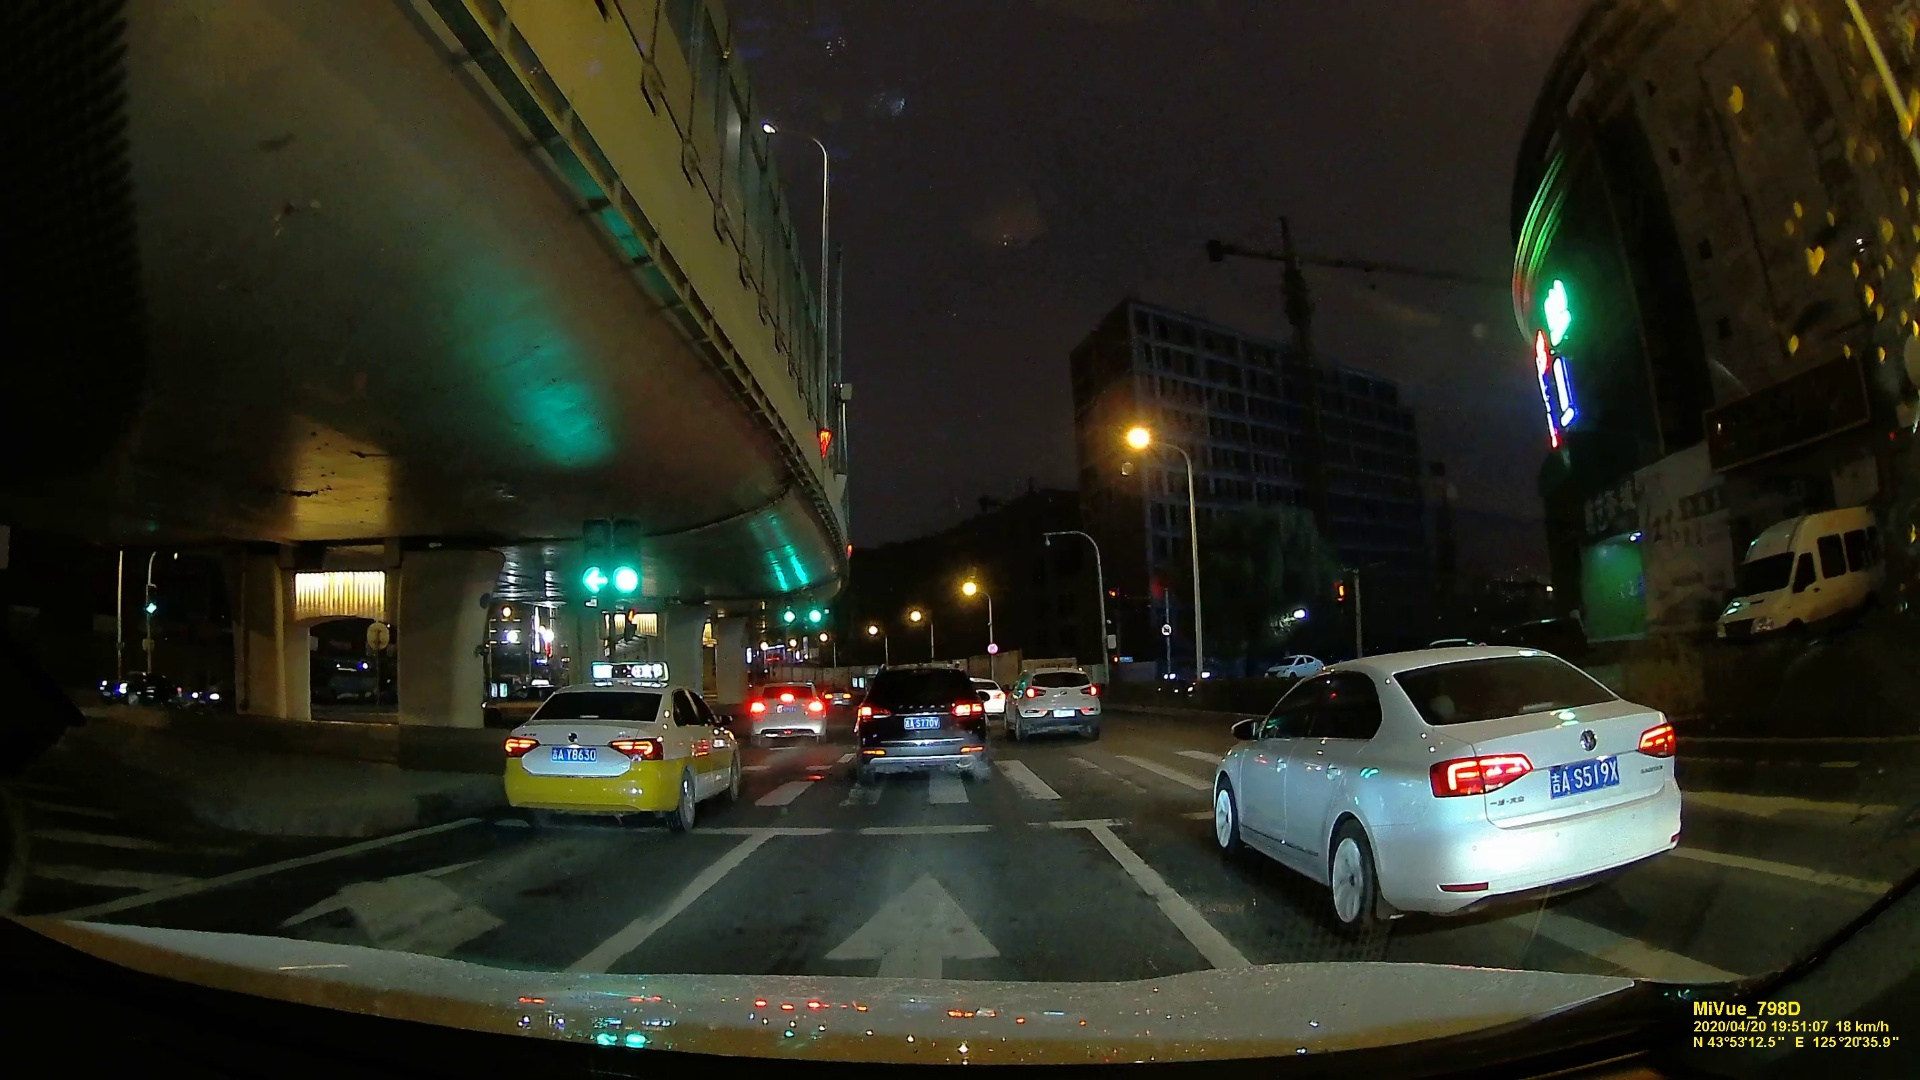minibus: (1718, 504, 1898, 651)
traffic_sign: (611, 520, 642, 592), (580, 522, 609, 591), (806, 599, 820, 622), (783, 597, 796, 622)
vehicle: (1208, 642, 1680, 938), (491, 680, 741, 831), (851, 659, 992, 787), (1004, 663, 1101, 738), (752, 682, 833, 745), (1269, 653, 1327, 680)
